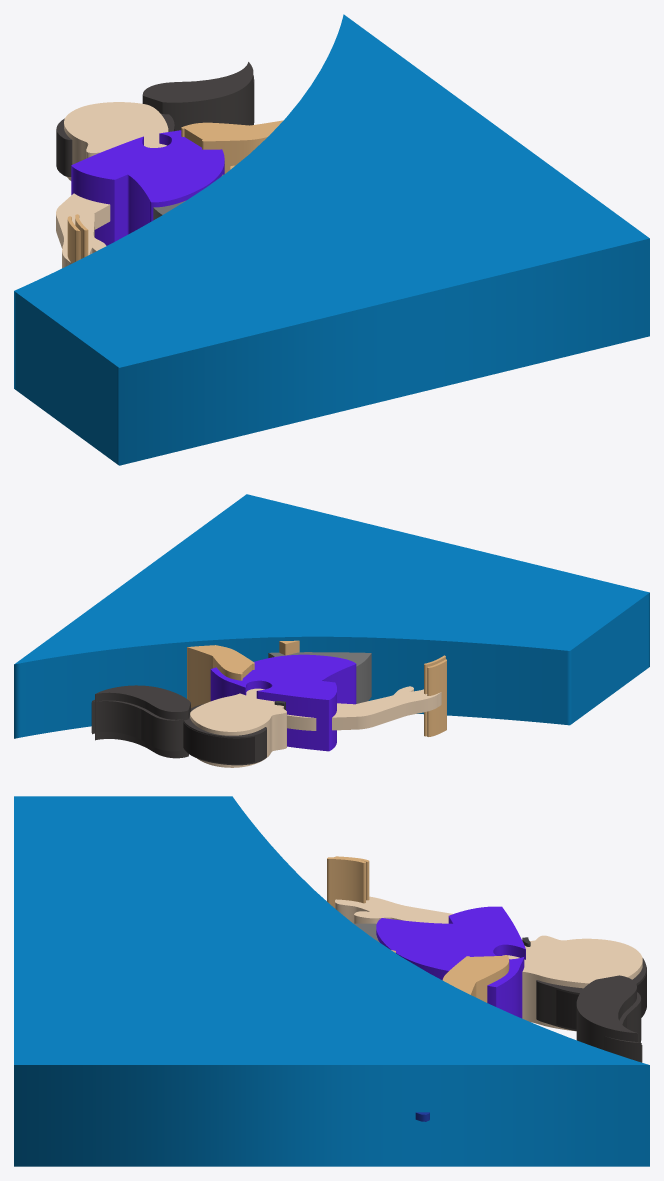
The model's file is emoji_u1f3c4_1f3fb_200d_2640.glb.
The picture shows the model from 3 angles, top to bottom: view 1: azimuth 30°, elevation 25°; view 2: azimuth 150°, elevation 25°; view 3: azimuth 270°, elevation 25°; orthographic projection. The views are drawn at different scales.
Parts seen in each view (by area): view 1: emoji_u1f3c4_1f3fb_200d_2640; view 2: emoji_u1f3c4_1f3fb_200d_2640; view 3: emoji_u1f3c4_1f3fb_200d_2640.
Boxes of the visible parts, left/top/right/bottom form: emoji_u1f3c4_1f3fb_200d_2640: left=14, top=14, right=649, bottom=465; emoji_u1f3c4_1f3fb_200d_2640: left=14, top=494, right=649, bottom=767; emoji_u1f3c4_1f3fb_200d_2640: left=14, top=796, right=649, bottom=1166.
Bounding box in the file's own units: 0.0332 × 0.0058 × 0.0329.
